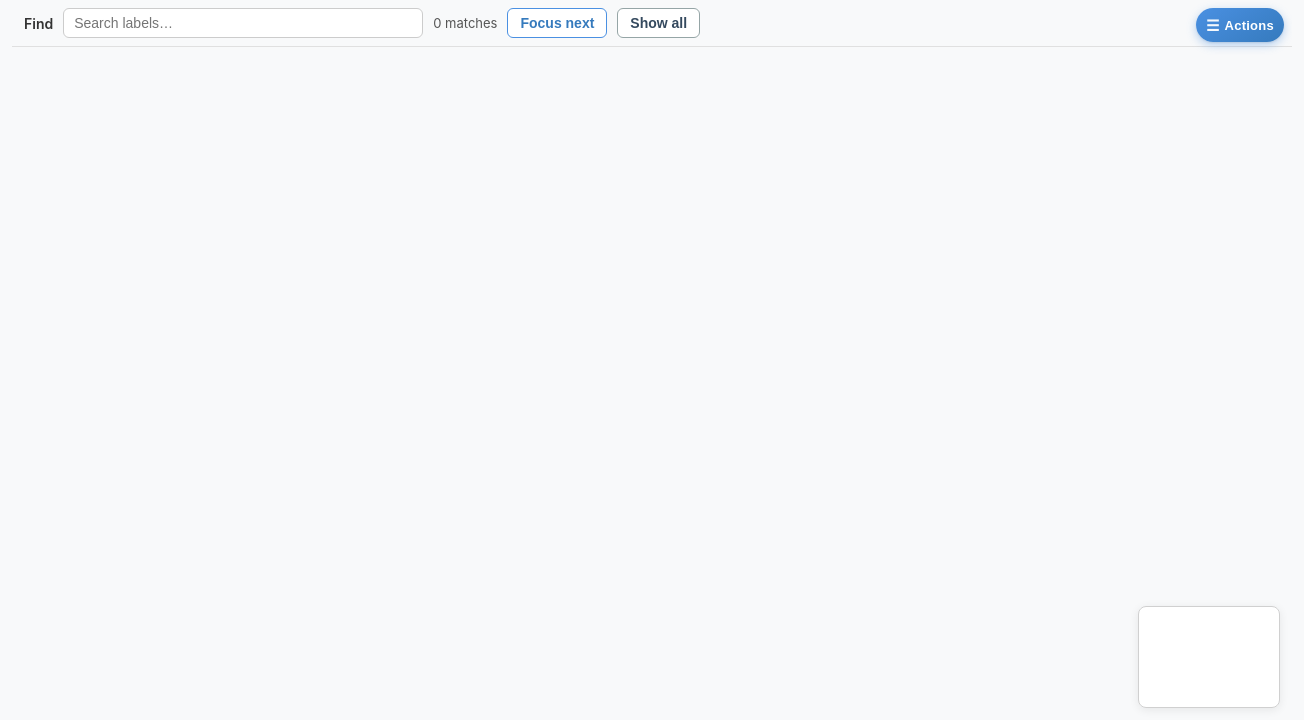
Test: GraphVisualization graph action menu › closes the action menu on Escape
Right-click the icon with class "graph-visualization" at [652, 384], box [12, 47, 1292, 719]
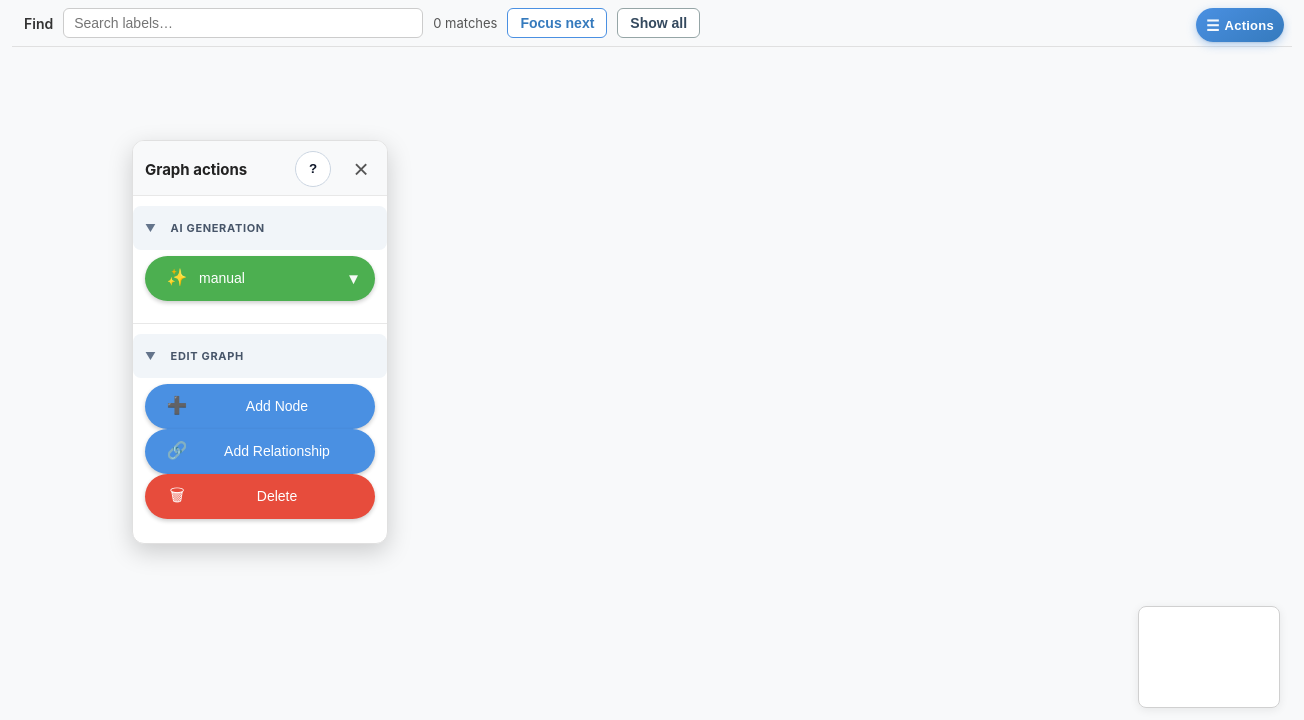
expect the element "Graph actions" is shown: met, box [132, 140, 388, 544]
Press Escape
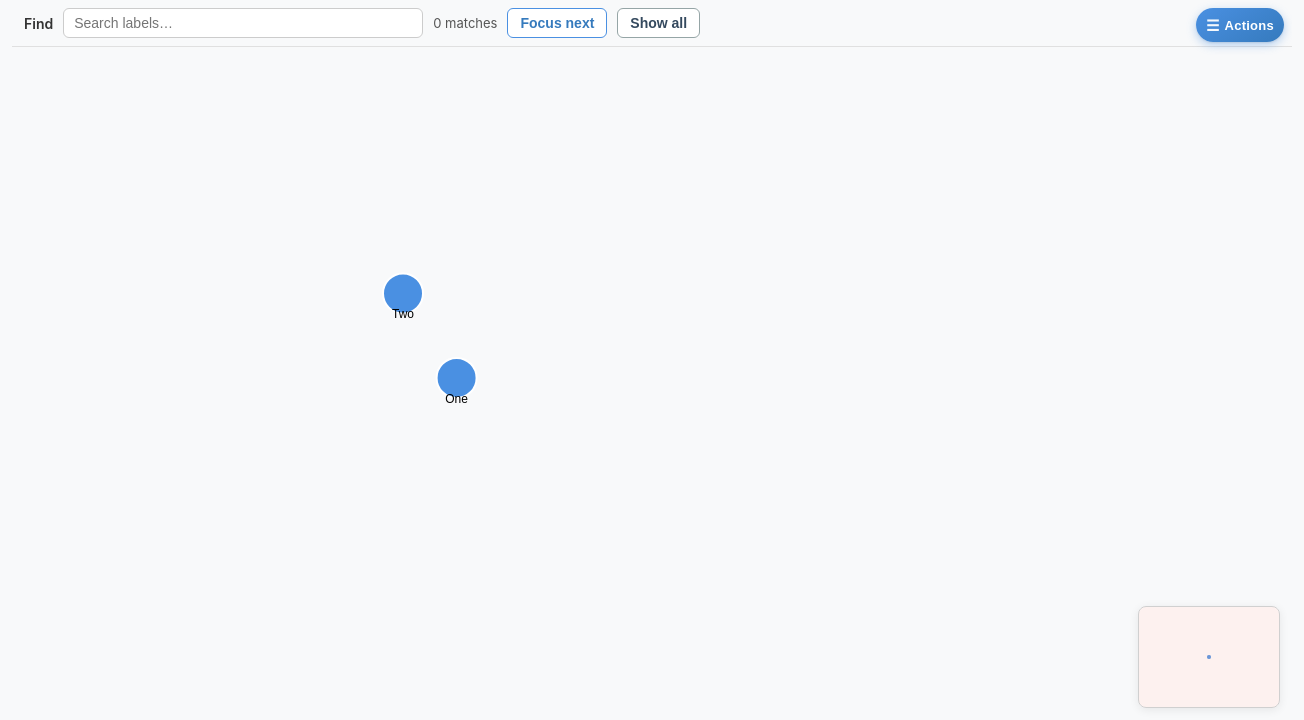
expect the text "Graph actions" is gone: met
